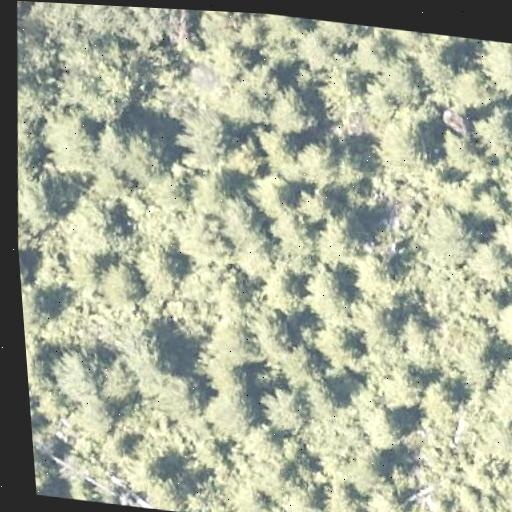tree-top: (62, 49, 143, 120), (35, 104, 104, 178), (412, 199, 482, 269), (432, 310, 504, 374), (106, 121, 176, 186), (173, 101, 237, 166), (375, 107, 437, 172), (255, 379, 319, 440), (47, 343, 106, 405), (262, 79, 321, 137), (352, 397, 410, 455), (131, 232, 187, 288), (291, 134, 346, 191), (372, 359, 430, 413), (132, 431, 194, 481), (199, 315, 255, 369), (255, 263, 311, 317), (202, 385, 258, 439), (441, 60, 498, 113), (392, 308, 444, 366), (302, 261, 356, 316), (373, 52, 428, 106), (74, 189, 128, 244), (94, 256, 149, 309), (310, 211, 362, 267), (247, 168, 302, 220), (417, 373, 468, 426), (347, 251, 400, 302), (67, 391, 120, 442), (92, 352, 141, 407), (15, 172, 63, 228), (461, 236, 512, 288), (248, 308, 301, 358), (467, 99, 512, 157), (216, 193, 265, 246), (12, 108, 43, 183), (349, 29, 396, 77), (25, 242, 71, 291), (61, 243, 106, 293), (183, 171, 230, 218), (264, 206, 312, 251), (470, 39, 512, 88), (291, 185, 336, 229), (480, 373, 512, 428), (471, 182, 512, 224), (146, 474, 189, 512), (319, 476, 364, 512), (231, 477, 273, 512), (486, 292, 512, 348), (230, 15, 267, 53), (307, 19, 360, 45), (33, 439, 56, 496), (258, 13, 310, 38), (489, 209, 512, 260), (491, 164, 512, 218), (379, 28, 427, 48), (475, 501, 512, 512), (508, 128, 512, 170)
